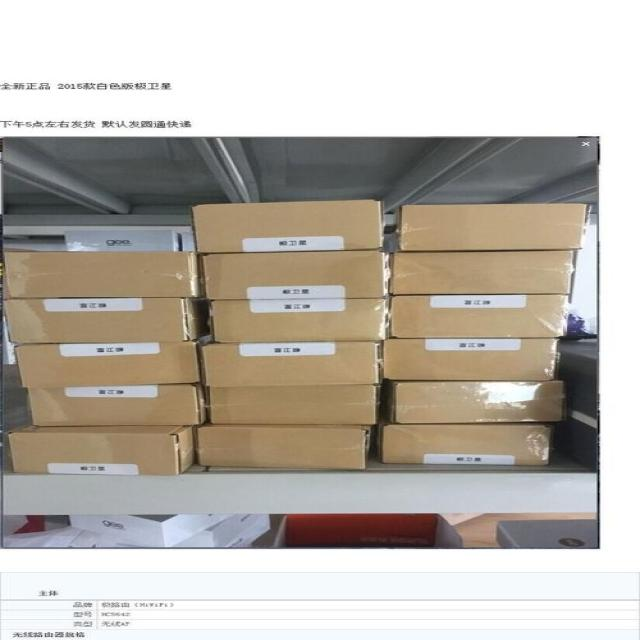box: (192, 200, 380, 252), (2, 299, 213, 344), (5, 252, 205, 298), (201, 251, 388, 298), (13, 341, 200, 388), (401, 205, 590, 251), (389, 250, 575, 296), (210, 298, 389, 343), (199, 341, 380, 385), (390, 294, 570, 337), (28, 383, 208, 425), (384, 338, 557, 380), (389, 382, 564, 423), (209, 384, 380, 425), (377, 422, 552, 452), (197, 423, 373, 452), (7, 425, 194, 451)
